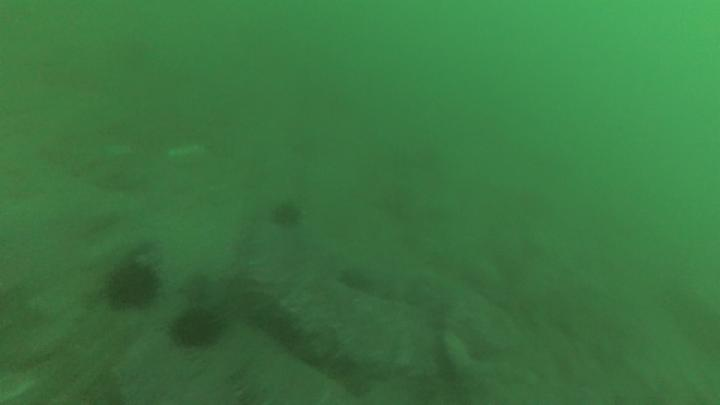echinus: (107, 263, 156, 310), (176, 306, 221, 348), (273, 204, 299, 226)
